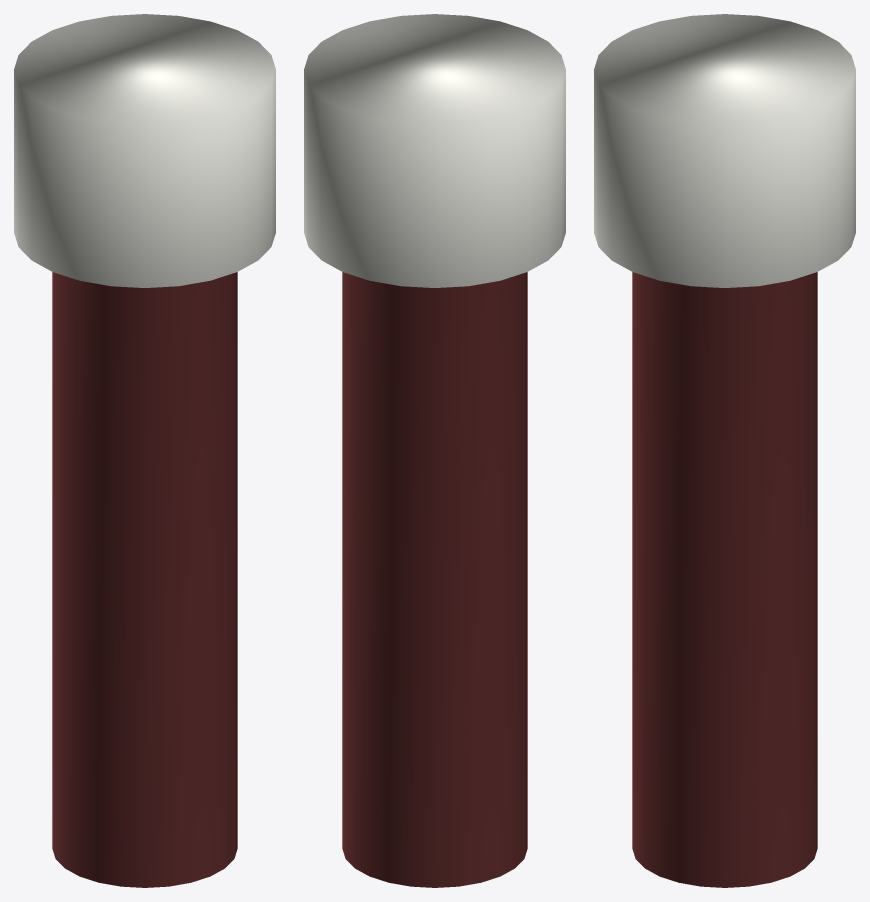
The model's file is Flare.fbx.
3 renders of one model, left to right at view 1: azimuth 30°, elevation 25°; view 2: azimuth 150°, elevation 25°; view 3: azimuth 270°, elevation 25°, orthographic.
Parts seen in each view (by area): view 1: Cylinder.016; view 2: Cylinder.016; view 3: Cylinder.016.
Boxes of the visible parts, x1,y1,x2,y2 form: Cylinder.016: (14,14,275,887); Cylinder.016: (304,14,565,887); Cylinder.016: (594,14,855,887).
Size of the model in its own units: 129 by 425 by 129.
